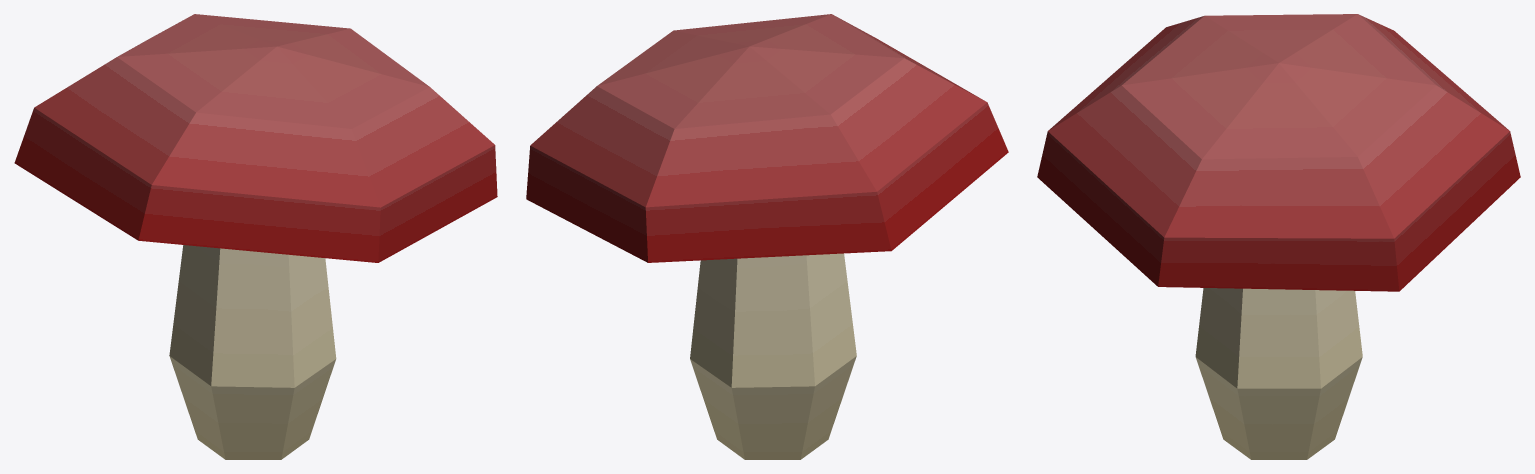
The model's file is Mushroom_001.fbx.
3 renders of one model, left to right at view 1: azimuth 30°, elevation 25°; view 2: azimuth 150°, elevation 25°; view 3: azimuth 270°, elevation 25°, orthographic.
Parts seen in each view (by area): view 1: Mushroom.001; view 2: Mushroom.001; view 3: Mushroom.001.
Part boxes in pixels (x1=…): Mushroom.001: x1=14, y1=14, x2=497, y2=459; Mushroom.001: x1=526, y1=14, x2=1008, y2=459; Mushroom.001: x1=1037, y1=14, x2=1520, y2=459.
Size of the model in its own units: 0.9428 by 0.9548 by 1.08.
